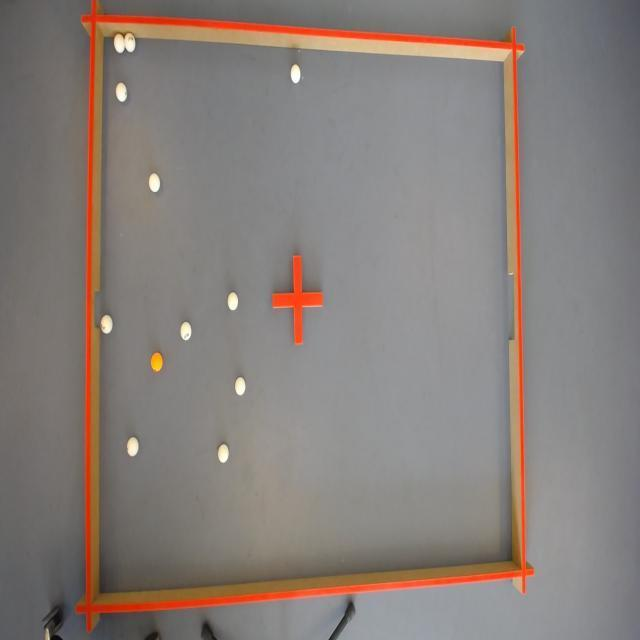orange: (150, 354, 164, 372)
white: (110, 33, 126, 54), (127, 436, 140, 461), (178, 322, 192, 344), (99, 312, 113, 334), (116, 82, 130, 104), (124, 32, 139, 52), (148, 171, 162, 192), (234, 374, 247, 396), (290, 62, 303, 83), (228, 291, 240, 312), (219, 442, 230, 462)
